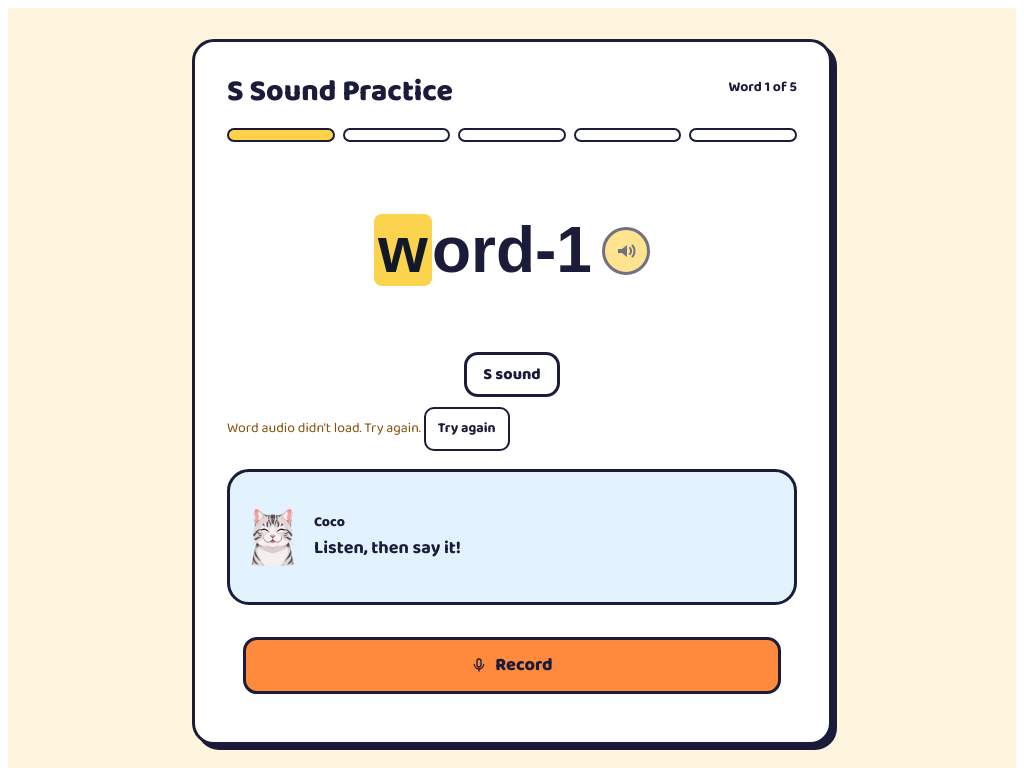
PronunciationPracticeShell › offers a retry for temporary word-audio failures
The image size is (1024, 768).
Click the button with aria-label "Try word audio again" at [467, 429], box [424,407,510,451]
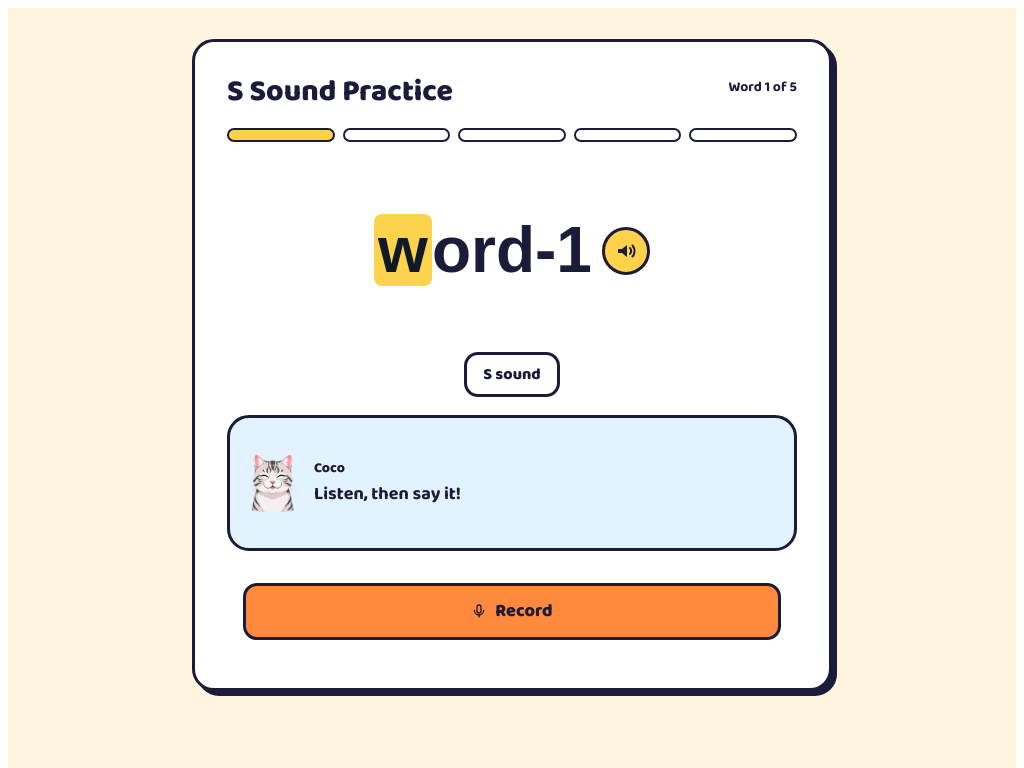
Expected: the button named "Hear the word" is enabled, [602,227,650,275]
